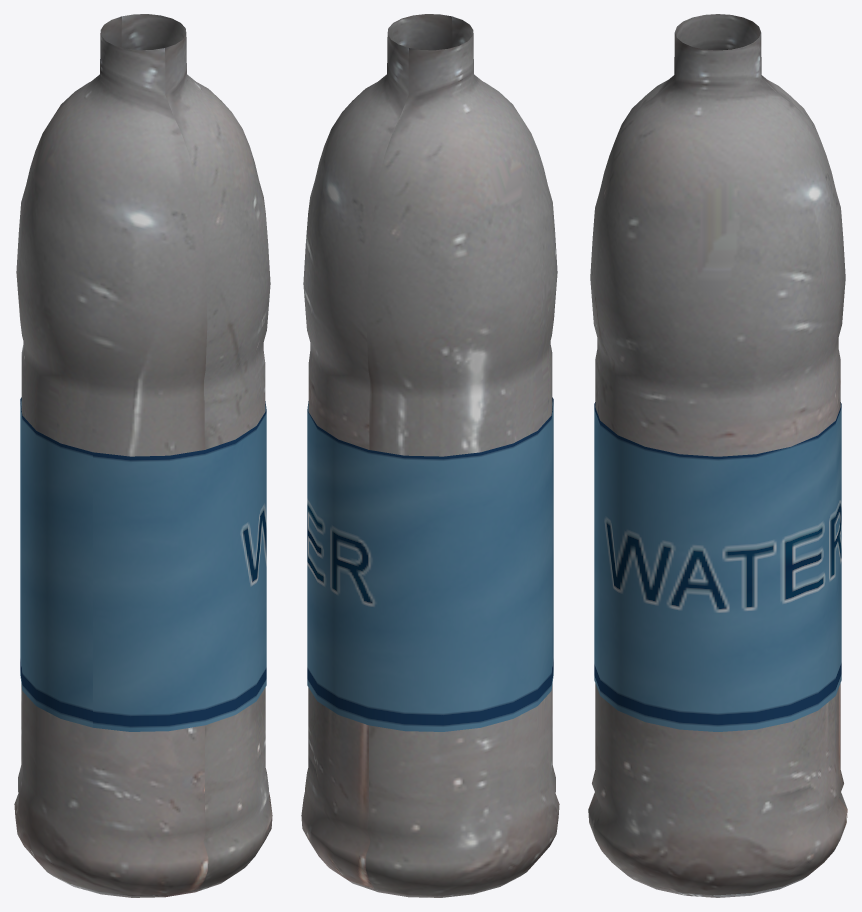
Rendered from bottle2.FBX.
The picture shows the model from 3 angles, left to right: view 1: azimuth 30°, elevation 25°; view 2: azimuth 150°, elevation 25°; view 3: azimuth 270°, elevation 25°; orthographic projection.
Visible parts, largest first — view 1: bottle2; view 2: bottle2; view 3: bottle2.
Part boxes in pixels (x1,y1,x2,y2): bottle2: (14,14,272,897); bottle2: (301,14,559,897); bottle2: (588,14,847,897).
Bounding box in the file's own units: 71.05 × 250 × 71.05.
